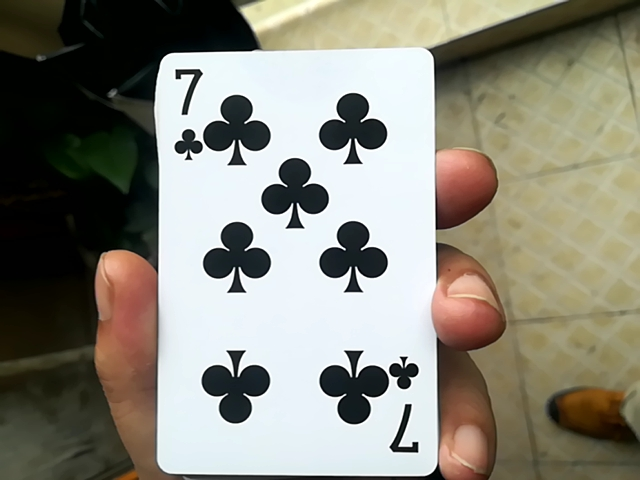mh 7: (135, 46, 451, 480)
